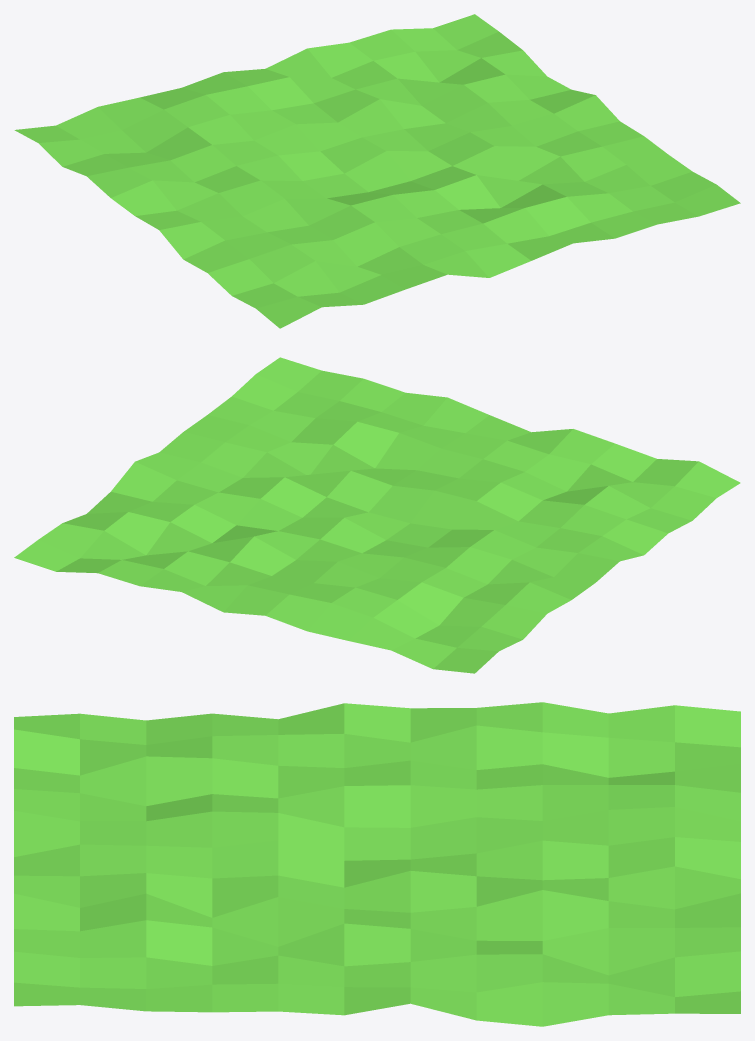
Rendered from navmesh.glb.
3 renders of one model, top to bottom at view 1: azimuth 30°, elevation 25°; view 2: azimuth 150°, elevation 25°; view 3: azimuth 270°, elevation 25°, orthographic. The views are drawn at different scales.
Visible parts, largest first — view 1: Plane; view 2: Plane; view 3: Plane.
Boxes of the visible parts, bbox=[...] form: Plane: bbox=[14, 14, 740, 328]; Plane: bbox=[14, 357, 740, 673]; Plane: bbox=[14, 702, 740, 1026].
Size of the model in its own units: 170 by 7.62 by 170.
